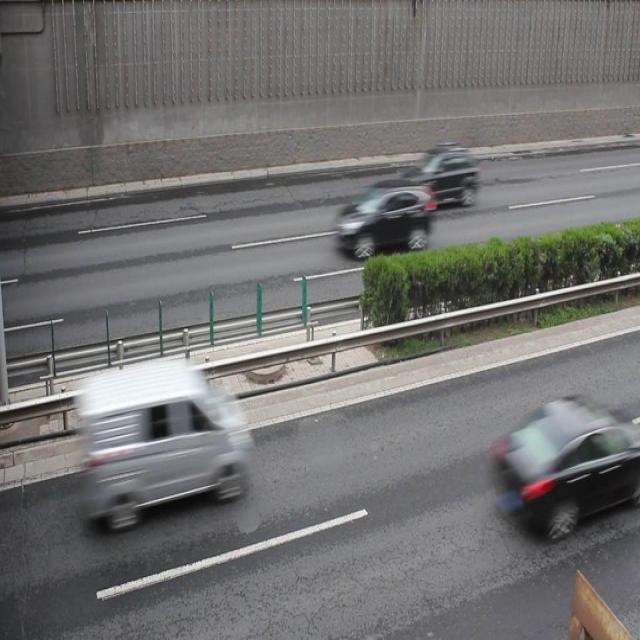car: (493, 395, 628, 538), (336, 179, 432, 258), (394, 143, 477, 209)
truck: (72, 357, 246, 528)
